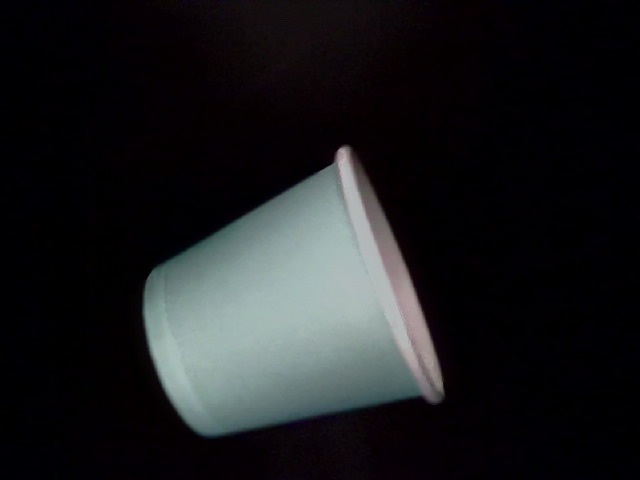KHSLJ: (10, 141, 462, 480)
